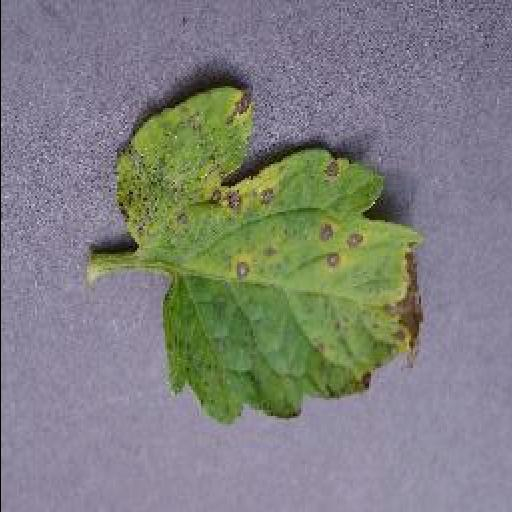disease_tomato: (113, 90, 427, 428)
